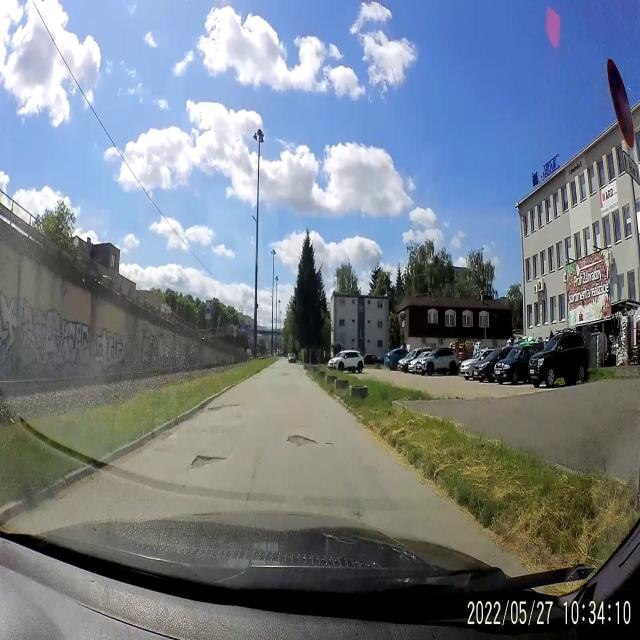Pothole: (188, 452, 228, 470), (286, 434, 319, 448), (206, 402, 242, 414), (324, 438, 338, 451), (353, 509, 365, 522), (254, 376, 262, 380), (236, 414, 243, 418), (282, 372, 288, 376), (300, 425, 306, 428), (324, 413, 327, 418)
